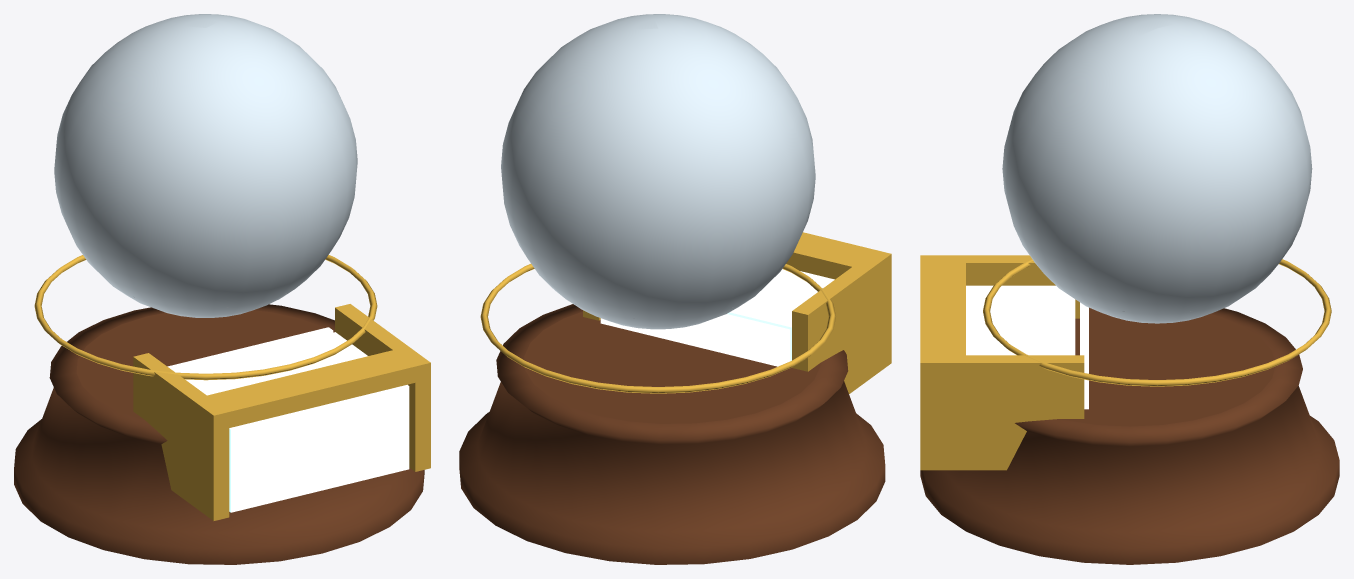
The model's file is SnowGlobeFurnace_Roblox.fbx.
The picture shows the model from 3 angles, left to right: view 1: azimuth 30°, elevation 25°; view 2: azimuth 150°, elevation 25°; view 3: azimuth 270°, elevation 25°; orthographic projection. The views are drawn at different scales.
Parts seen in each view (by area): view 1: GlobeGlass, GlobeBase, GoldTrim, BurnZone, DrawerGlow; view 2: GlobeBase, GlobeGlass, GoldTrim, DrawerGlow, BurnZone; view 3: GlobeGlass, GlobeBase, GoldTrim, BurnZone, DrawerGlow.
Part boxes in pixels (x1=…): GlobeGlass: x1=54, y1=14, x2=357, y2=317; GlobeBase: x1=14, y1=304, x2=424, y2=564; GoldTrim: x1=34, y1=255, x2=430, y2=520; BurnZone: x1=174, y1=332, x2=409, y2=512; DrawerGlow: x1=167, y1=327, x2=333, y2=371; GlobeBase: x1=459, y1=304, x2=885, y2=564; GlobeGlass: x1=501, y1=14, x2=815, y2=329; GoldTrim: x1=480, y1=232, x2=891, y2=393; DrawerGlow: x1=600, y1=314, x2=790, y2=366; BurnZone: x1=727, y1=269, x2=834, y2=361; GlobeGlass: x1=1002, y1=14, x2=1312, y2=323; GlobeBase: x1=920, y1=307, x2=1339, y2=564; GoldTrim: x1=920, y1=255, x2=1331, y2=470; BurnZone: x1=966, y1=285, x2=1075, y2=355; DrawerGlow: x1=1080, y1=302, x2=1088, y2=409.
Size of the model in its own units: 920 by 1085 by 920.
